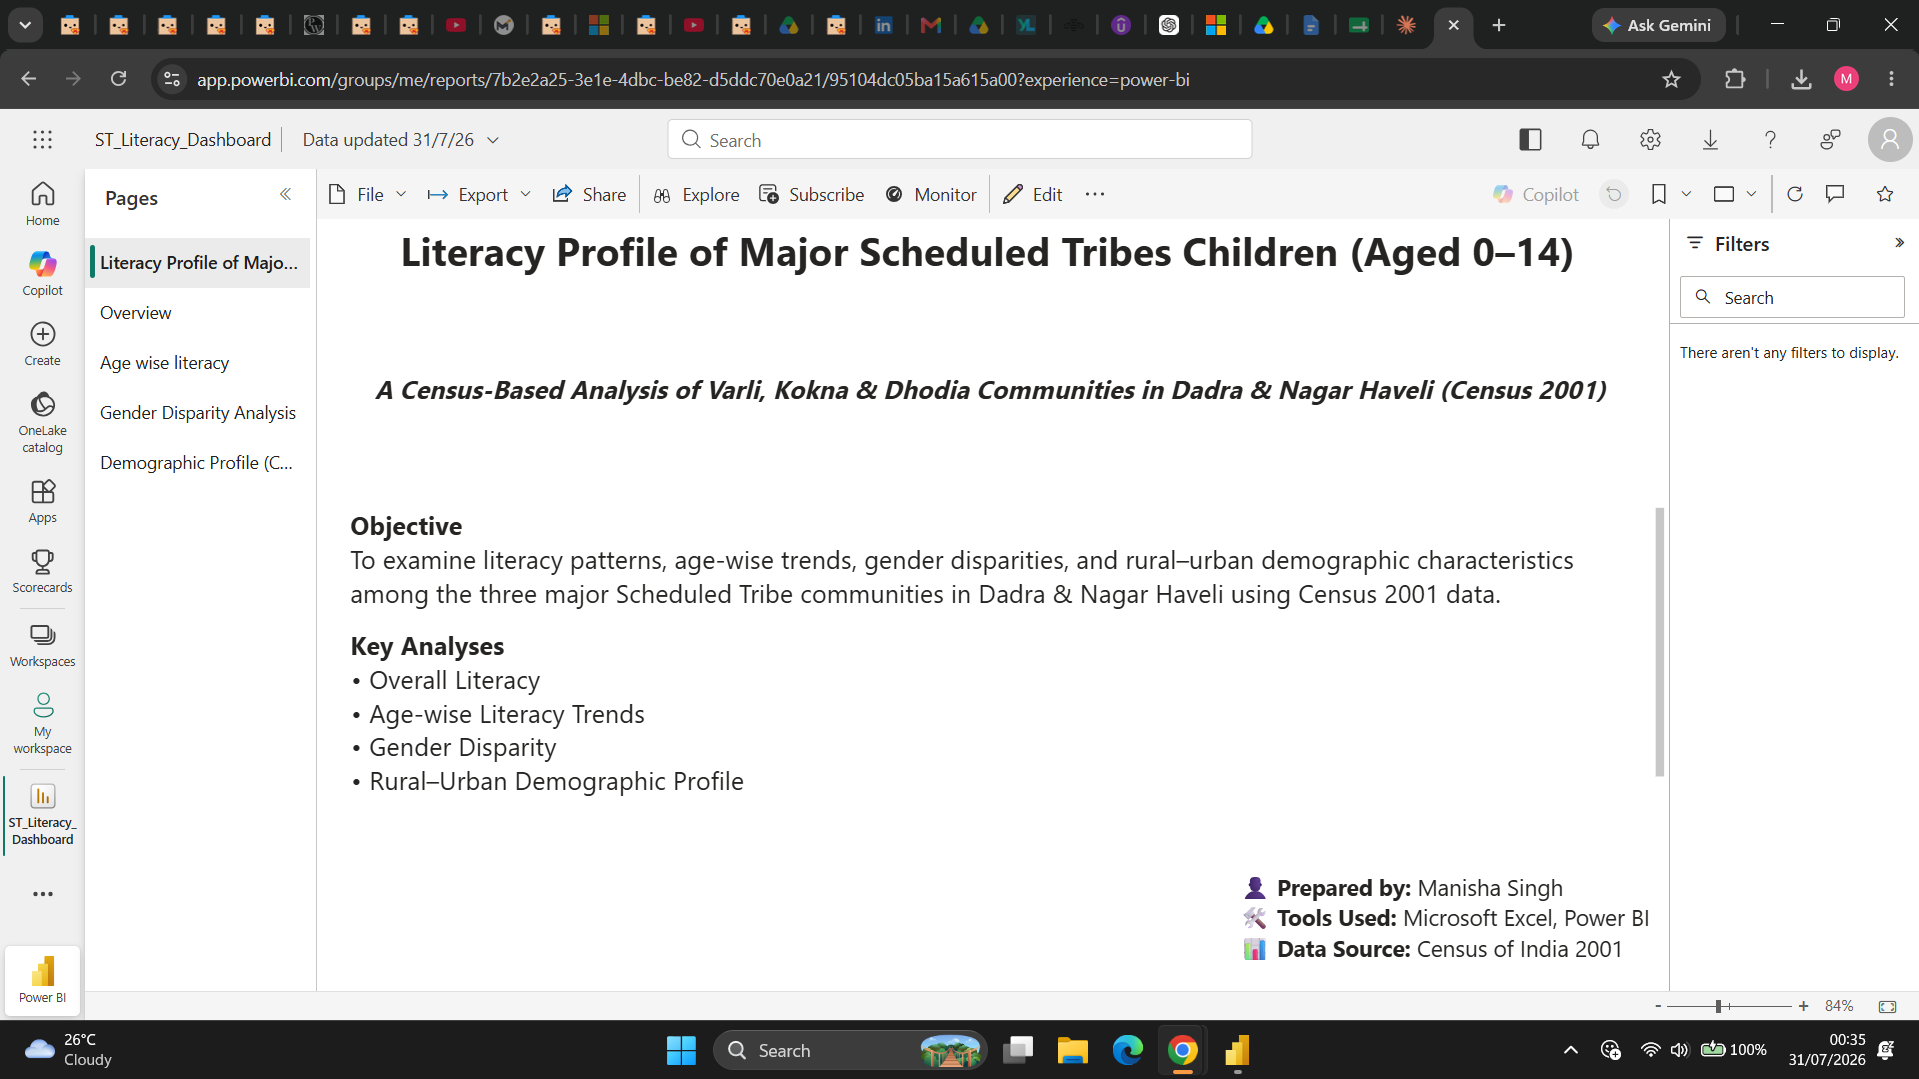

Layout of this report page (visuals, bound fields, positions):
{"tool":"powerbi","page":{"name":"Literacy Profile of Major Scheduled Tribes (Children Aged 0–14)","canvas":[1280,720],"ordinal":0},"visuals":[{"type":"textbox","box":[0,0,1280.3,63.1],"z":0},{"type":"textbox","box":[49.4,140,1184.2,57.6],"z":1000},{"type":"textbox","box":[26.1,269,1254.2,295],"z":2000},{"type":"textbox","box":[868.6,613.4,411.7,107],"z":3000}]}

Visuals, with their boxes on the page's 1280x720 design canvas (x1, y1, x2, y2). These are canvas units, not pixel positions in the 1919x1079 screenshot, which may show the page scaled, cropped or inside an application window:
textbox: box(0, 0, 1280, 63)
textbox: box(49, 140, 1234, 198)
textbox: box(26, 269, 1280, 564)
textbox: box(869, 613, 1280, 720)
